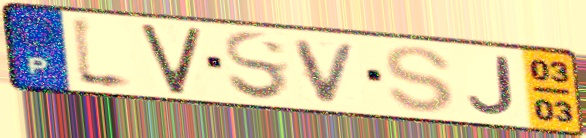J: (465, 54, 519, 118)
L: (68, 13, 140, 96)
S: (220, 29, 293, 104), (382, 44, 458, 115)
V: (137, 23, 205, 96), (290, 38, 363, 106)
